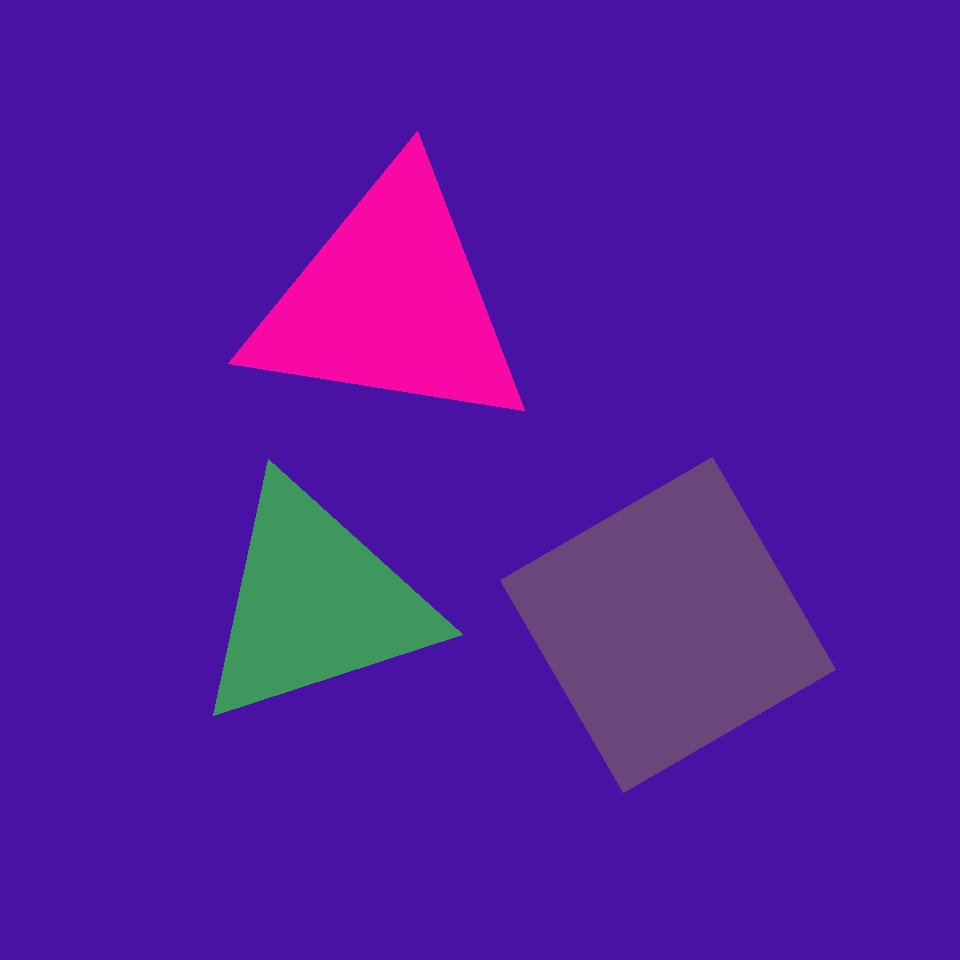circle: (242, 162, 538, 442), (190, 475, 440, 731), (633, 365, 757, 492)
square: (500, 458, 835, 792), (479, 815, 573, 909)
